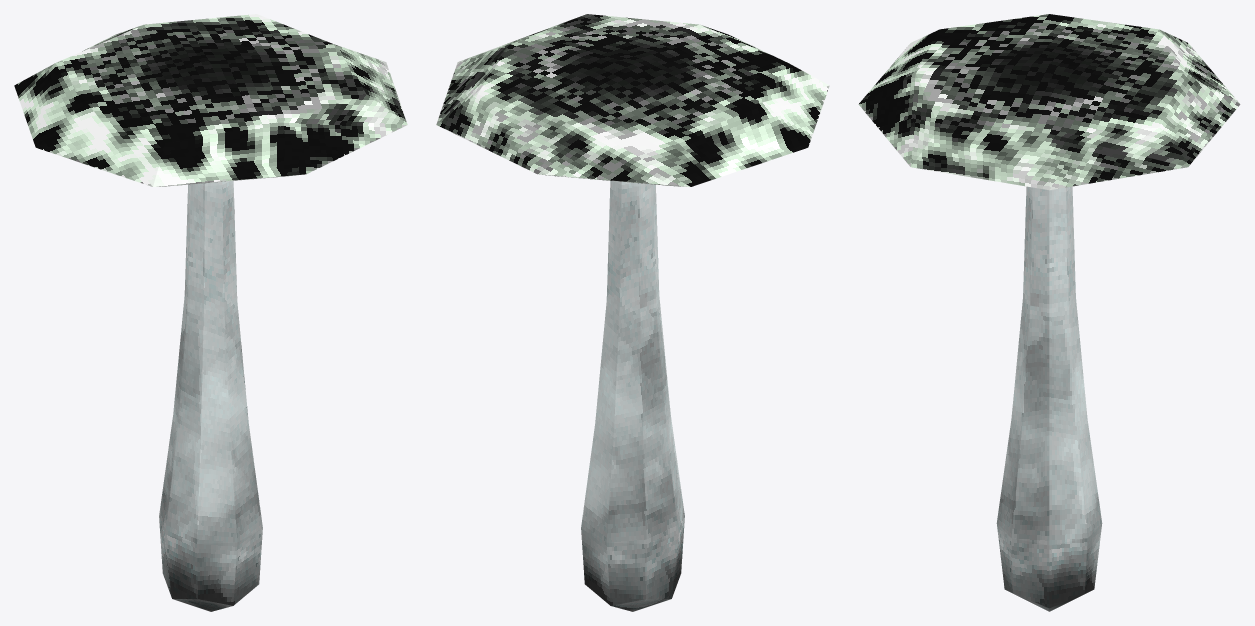
The model's file is mushroom_04.glb.
3 renders of one model, left to right at view 1: azimuth 30°, elevation 25°; view 2: azimuth 150°, elevation 25°; view 3: azimuth 270°, elevation 25°, orthographic.
Visible parts, largest first — view 1: MUSH_04; view 2: MUSH_04; view 3: MUSH_04.
Boxes of the visible parts, <box> form: MUSH_04: <box>14,14,407,611</box>; MUSH_04: <box>436,14,829,611</box>; MUSH_04: <box>858,14,1240,611</box>.
Bounding box in the file's own units: 2.29 × 3.42 × 2.16.
Materials: 1 (1 with a texture image).
